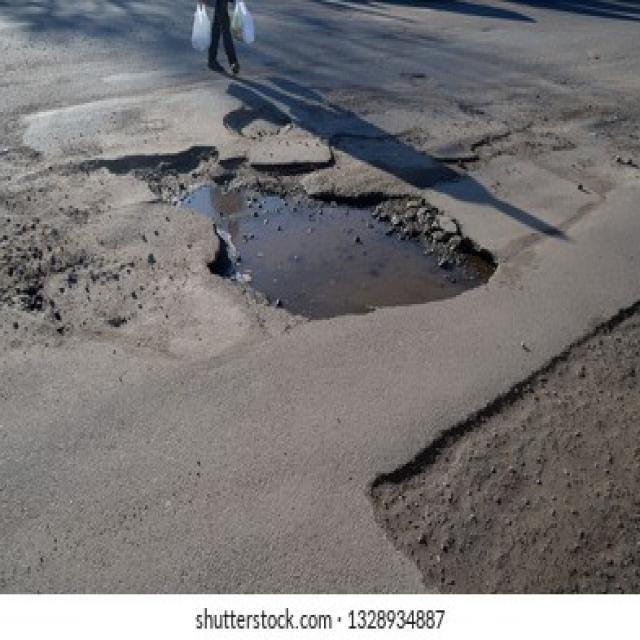Pothole: (88, 144, 498, 322), (222, 108, 294, 140)
